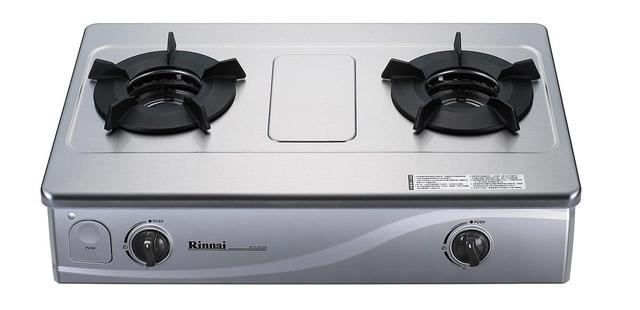gasoven: (39, 20, 574, 287)
